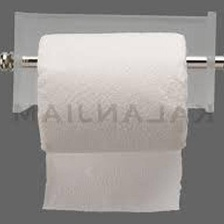tissue: (32, 28, 194, 215)
